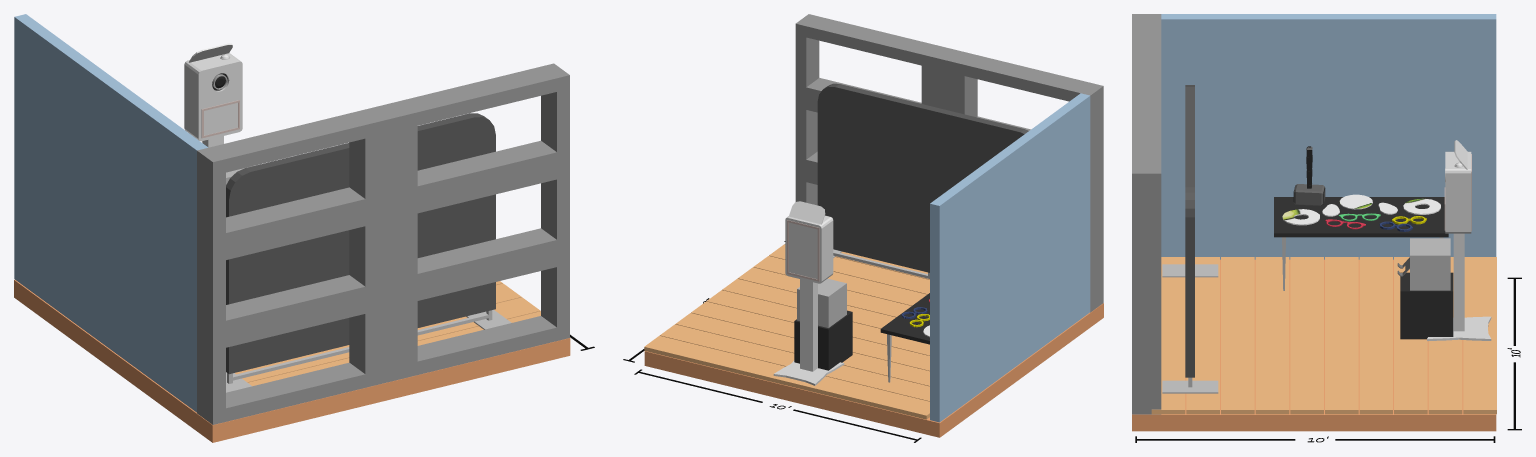
File: booth06.glb
The picture shows the model from 3 angles, left to right: view 1: azimuth 30°, elevation 25°; view 2: azimuth 150°, elevation 25°; view 3: azimuth 270°, elevation 25°; orthographic projection. The views are drawn at different scales.
Visible parts, largest first — view 1: BackWall, SideWall, Cloth, FloorBase, Booth, Planks, Stand; view 2: SideWall, Cloth, Planks, BackWall, FloorBase, Booth, Base.001, Stand.001, Printer.001, TableTop, Base, Reflector (+2 smaller); view 3: SideWall, Planks, BackWall, FloorBase, TableTop, Cloth, Base.001, Printer.001, Booth, Stand, Stand.001, Hammer (+6 smaller).
Boxes of the visible parts, <box> form: BackWall: <box>197,63,569,424</box>; SideWall: <box>14,14,207,412</box>; Cloth: <box>226,113,495,374</box>; FloorBase: <box>14,280,570,442</box>; Booth: <box>184,53,242,141</box>; Planks: <box>235,281,540,386</box>; Stand: <box>226,309,511,392</box>; SideWall: <box>930,93,1090,422</box>; Cloth: <box>817,83,1028,272</box>; Planks: <box>644,244,929,419</box>; BackWall: <box>795,14,1103,312</box>; FloorBase: <box>644,303,1103,437</box>; Booth: <box>785,215,833,283</box>; Base.001: <box>794,310,852,370</box>; Stand.001: <box>800,279,817,371</box>; Printer.001: <box>797,278,846,327</box>; TableTop: <box>880,293,929,344</box>; Base: <box>773,360,844,385</box>; Reflector: <box>788,201,825,224</box>; SideWall: <box>1161,14,1496,259</box>; Planks: <box>1151,257,1496,414</box>; BackWall: <box>1132,14,1161,414</box>; FloorBase: <box>1132,259,1496,431</box>; TableTop: <box>1274,197,1448,237</box>; Cloth: <box>1185,85,1194,377</box>; Base.001: <box>1400,272,1453,339</box>; Printer.001: <box>1410,238,1450,290</box>; Booth: <box>1444,151,1471,233</box>; Stand: <box>1162,264,1218,393</box>; Stand.001: <box>1453,233,1464,331</box>; Hammer: <box>1293,146,1325,205</box>.
Bounding box in the file's own units: 17.22 × 12.03 × 16.52.
27 materials, 5 textured.
